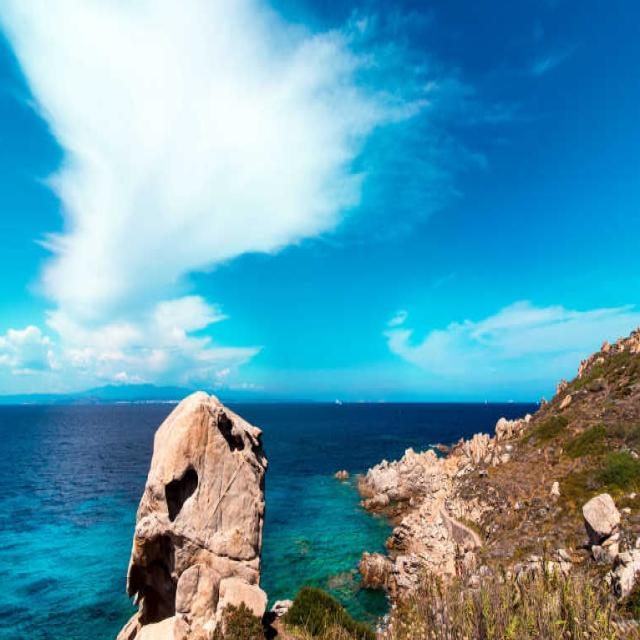reef: (116, 384, 266, 640)
